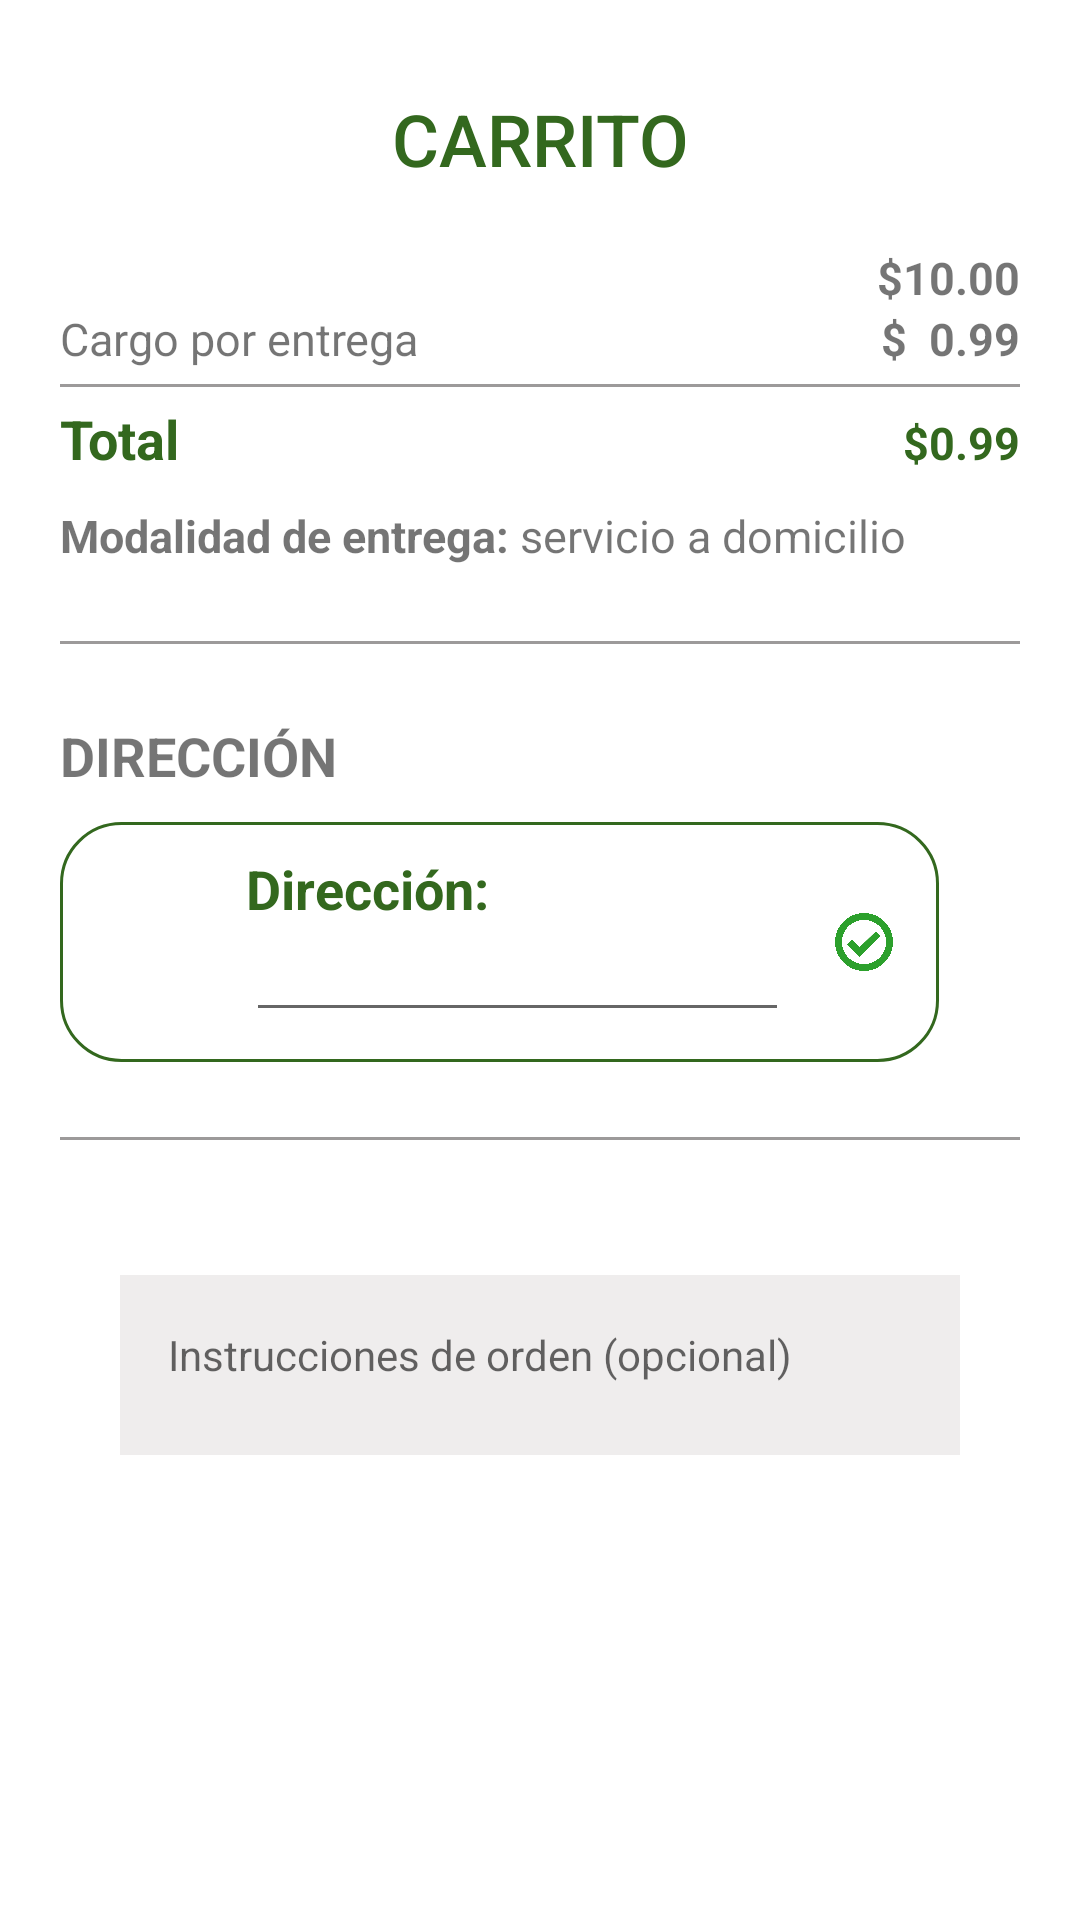

Screen size 1080px×1920px. Icon name, then its center in pixels as (x=x, y=y):
checkedicon: (x=864, y=942)
